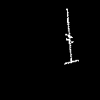treble_crochet: (65, 9, 78, 63)
